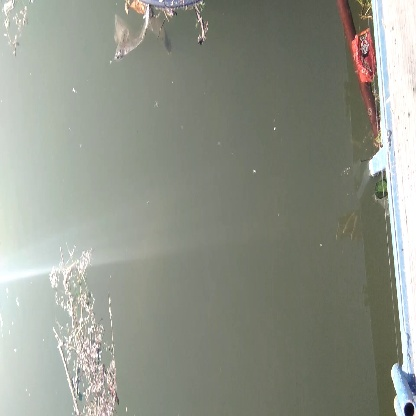milk-box: (352, 21, 379, 92)
